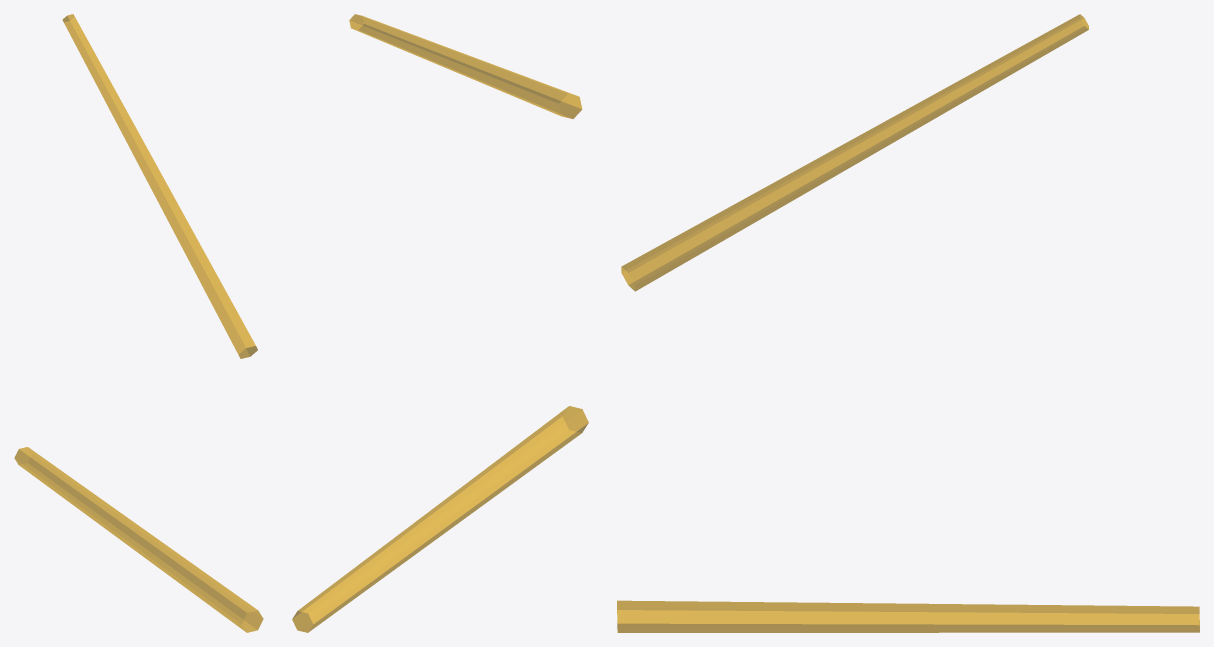
Rendered from SM_Veh_Ship_S_Mast_Middle_01_Boom_Back_01_Collision.fbx.
3 renders of one model, left to right at view 1: azimuth 30°, elevation 25°; view 2: azimuth 150°, elevation 25°; view 3: azimuth 270°, elevation 25°, orthographic. The views are drawn at different scales.
Parts seen in each view (by area): view 1: SM_Veh_Ship_S_Mast_Middle_01_Boom_Back_01_Collision; view 2: SM_Veh_Ship_S_Mast_Middle_01_Boom_Back_01_Collision; view 3: SM_Veh_Ship_S_Mast_Middle_01_Boom_Back_01_Collision.
Part boxes in pixels (x1,y1,x2,y2): SM_Veh_Ship_S_Mast_Middle_01_Boom_Back_01_Collision: (14, 14, 263, 632); SM_Veh_Ship_S_Mast_Middle_01_Boom_Back_01_Collision: (292, 14, 588, 632); SM_Veh_Ship_S_Mast_Middle_01_Boom_Back_01_Collision: (617, 14, 1199, 632).
Size of the model in its own units: 76.64 by 1600 by 1377.
